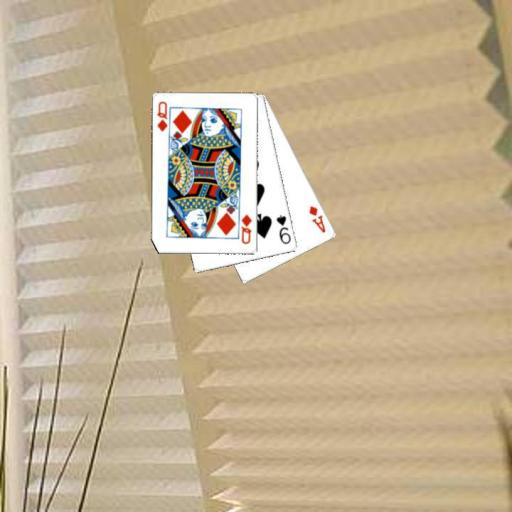9S: (274, 212, 292, 246)
AD: (306, 203, 327, 235)
QD: (238, 212, 254, 246), (155, 99, 170, 133)
